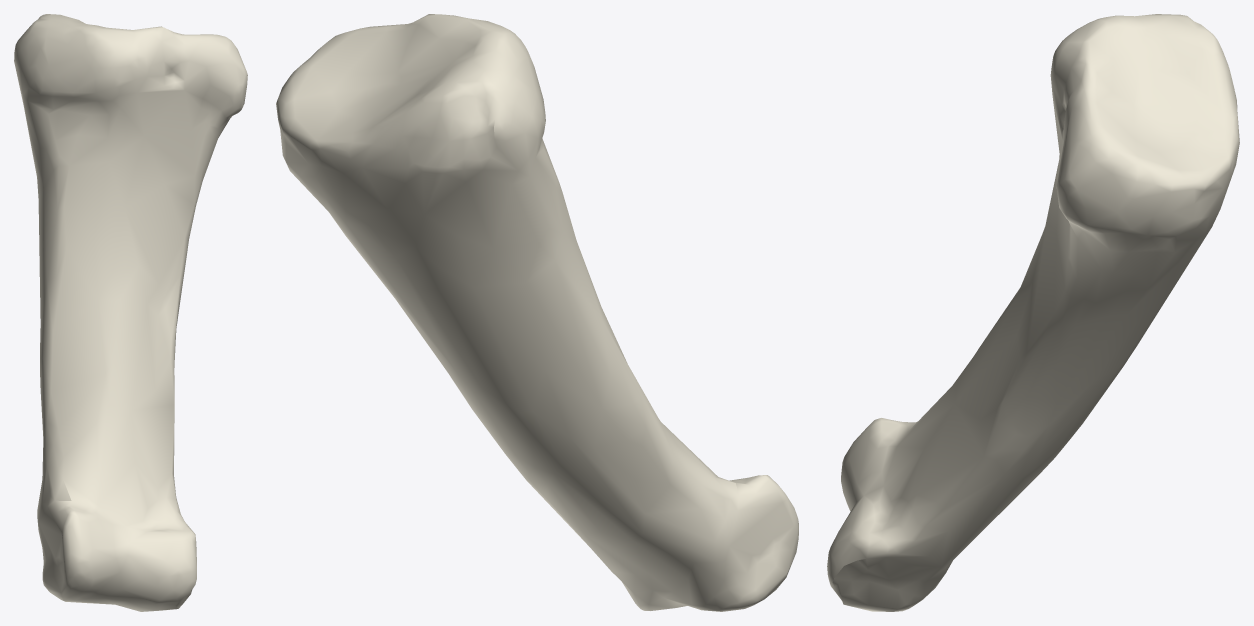
The model's file is fma24451.glb.
The picture shows the model from 3 angles, left to right: view 1: azimuth 30°, elevation 25°; view 2: azimuth 150°, elevation 25°; view 3: azimuth 270°, elevation 25°; orthographic projection. The views are drawn at different scales.
Parts seen in each view (by area): view 1: FMA24451; view 2: FMA24451; view 3: FMA24451.
Boxes of the visible parts, left/top/right/bottom form: FMA24451: left=14, top=14, right=247, bottom=611; FMA24451: left=276, top=14, right=798, bottom=611; FMA24451: left=827, top=14, right=1239, bottom=611.
Bounding box in the file's own units: 0.0221 × 0.0378 × 0.0231.
